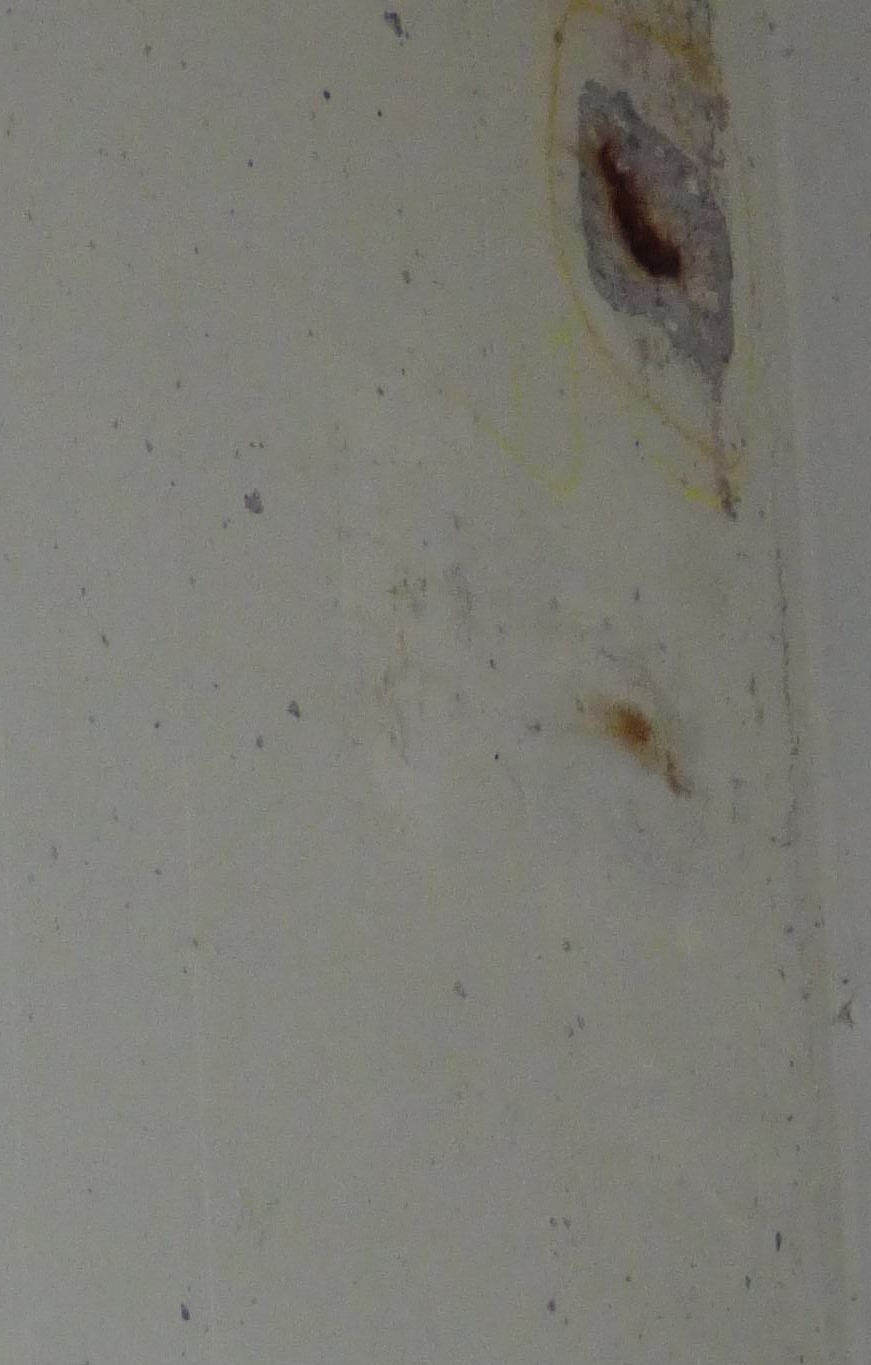Corrosion: (591, 697, 654, 759)
Exposed reinforcement: (597, 141, 684, 284)
Spalling: (576, 77, 737, 390)
